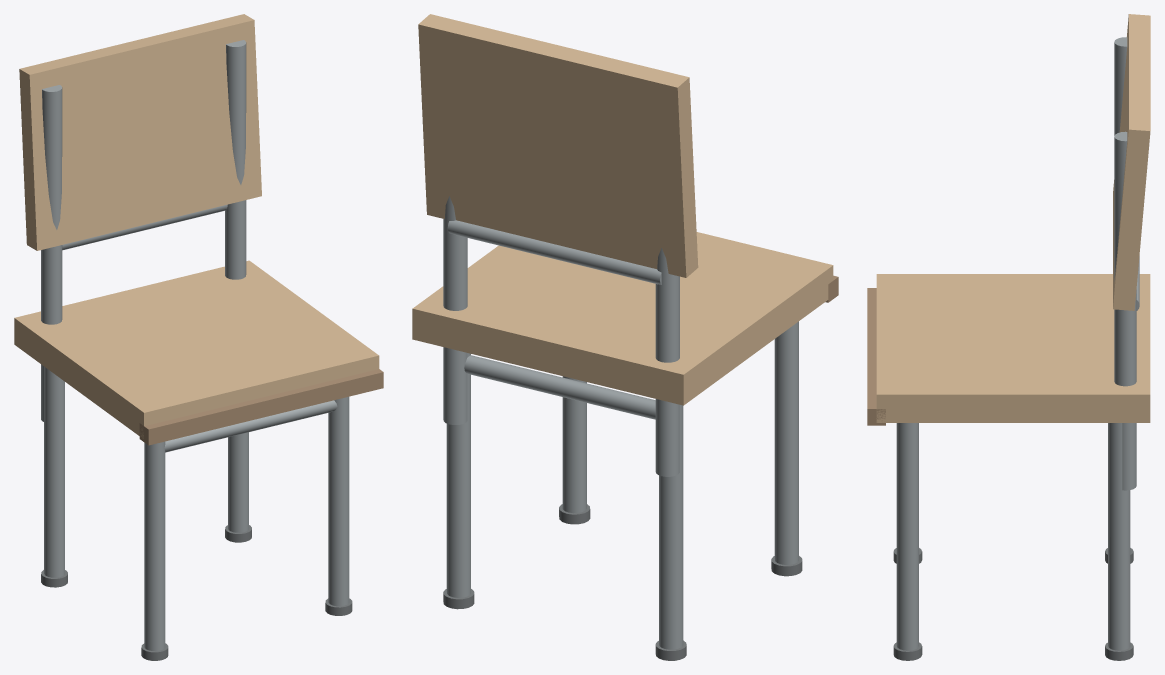
File: student-chair-v1.glb
3 renders of one model, left to right at view 1: azimuth 30°, elevation 25°; view 2: azimuth 150°, elevation 25°; view 3: azimuth 270°, elevation 25°, orthographic. The views are drawn at different scales.
Parts seen in each view (by area): view 1: student-chair-v1; view 2: student-chair-v1; view 3: student-chair-v1.
Boxes of the visible parts, bbox=[...] form: student-chair-v1: bbox=[14, 14, 383, 660]; student-chair-v1: bbox=[412, 14, 838, 660]; student-chair-v1: bbox=[867, 14, 1150, 660].
Size of the model in its own units: 0.46 by 0.9509 by 0.4552.
